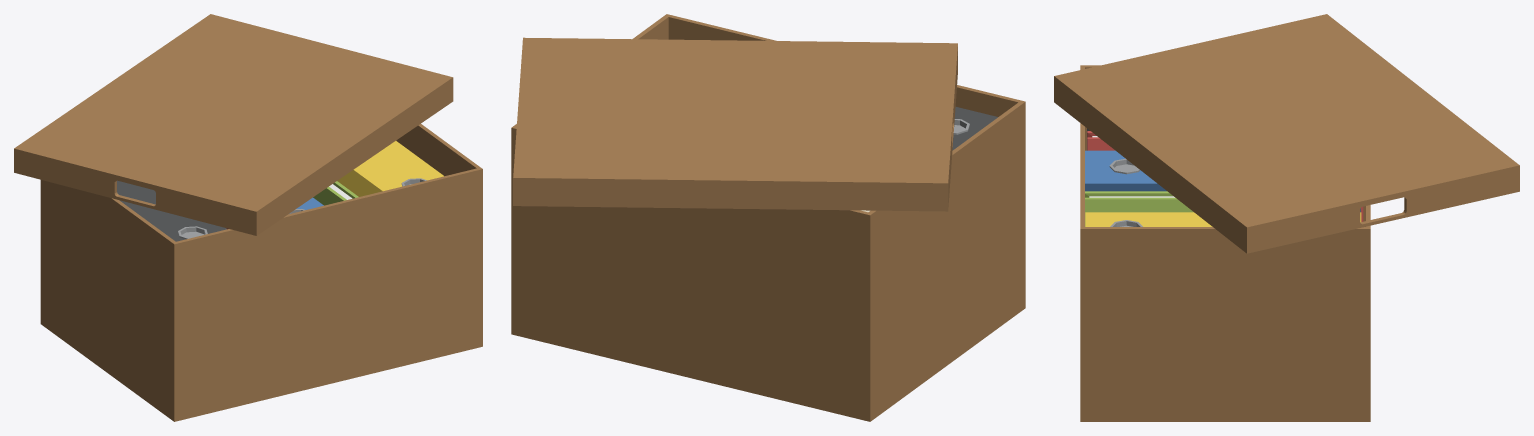
The model's file is Box_Filled_Brown.fbx.
3 views of the same model, side by side, from view 1: azimuth 30°, elevation 25°; view 2: azimuth 150°, elevation 25°; view 3: azimuth 270°, elevation 25° (orthographic). The views are drawn at different scales.
Parts seen in each view (by area): view 1: Box.004; view 2: Box.004; view 3: Box.004.
Part boxes in pixels (left/top/right/bottom): Box.004: left=14, top=14, right=482, bottom=421; Box.004: left=511, top=14, right=1025, bottom=421; Box.004: left=1054, top=14, right=1519, bottom=421.
Size of the model in its own units: 52.15 by 25 by 48.09.
